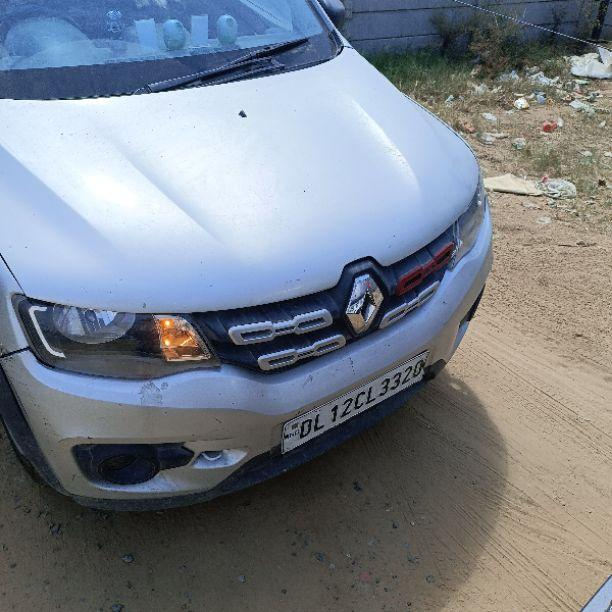license_plate: (279, 349, 429, 456)
